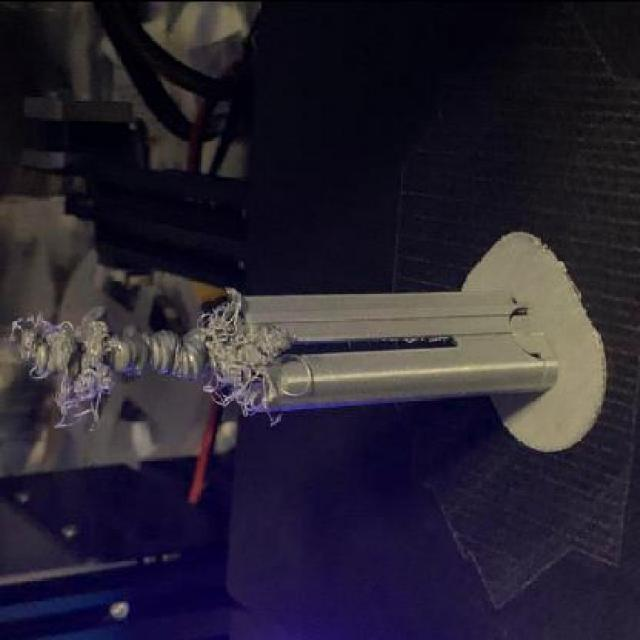spaghetti: (7, 281, 313, 427)
